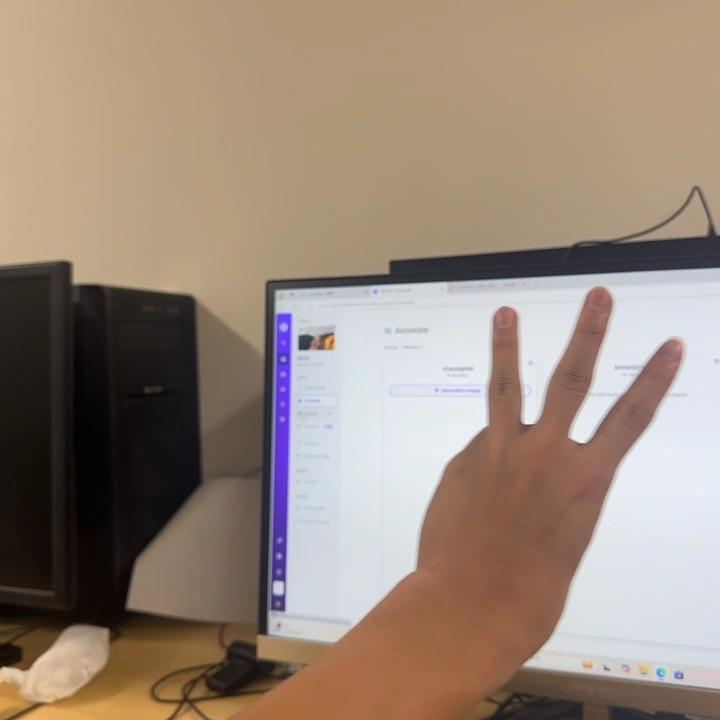without_gloves: (360, 236, 720, 663)
